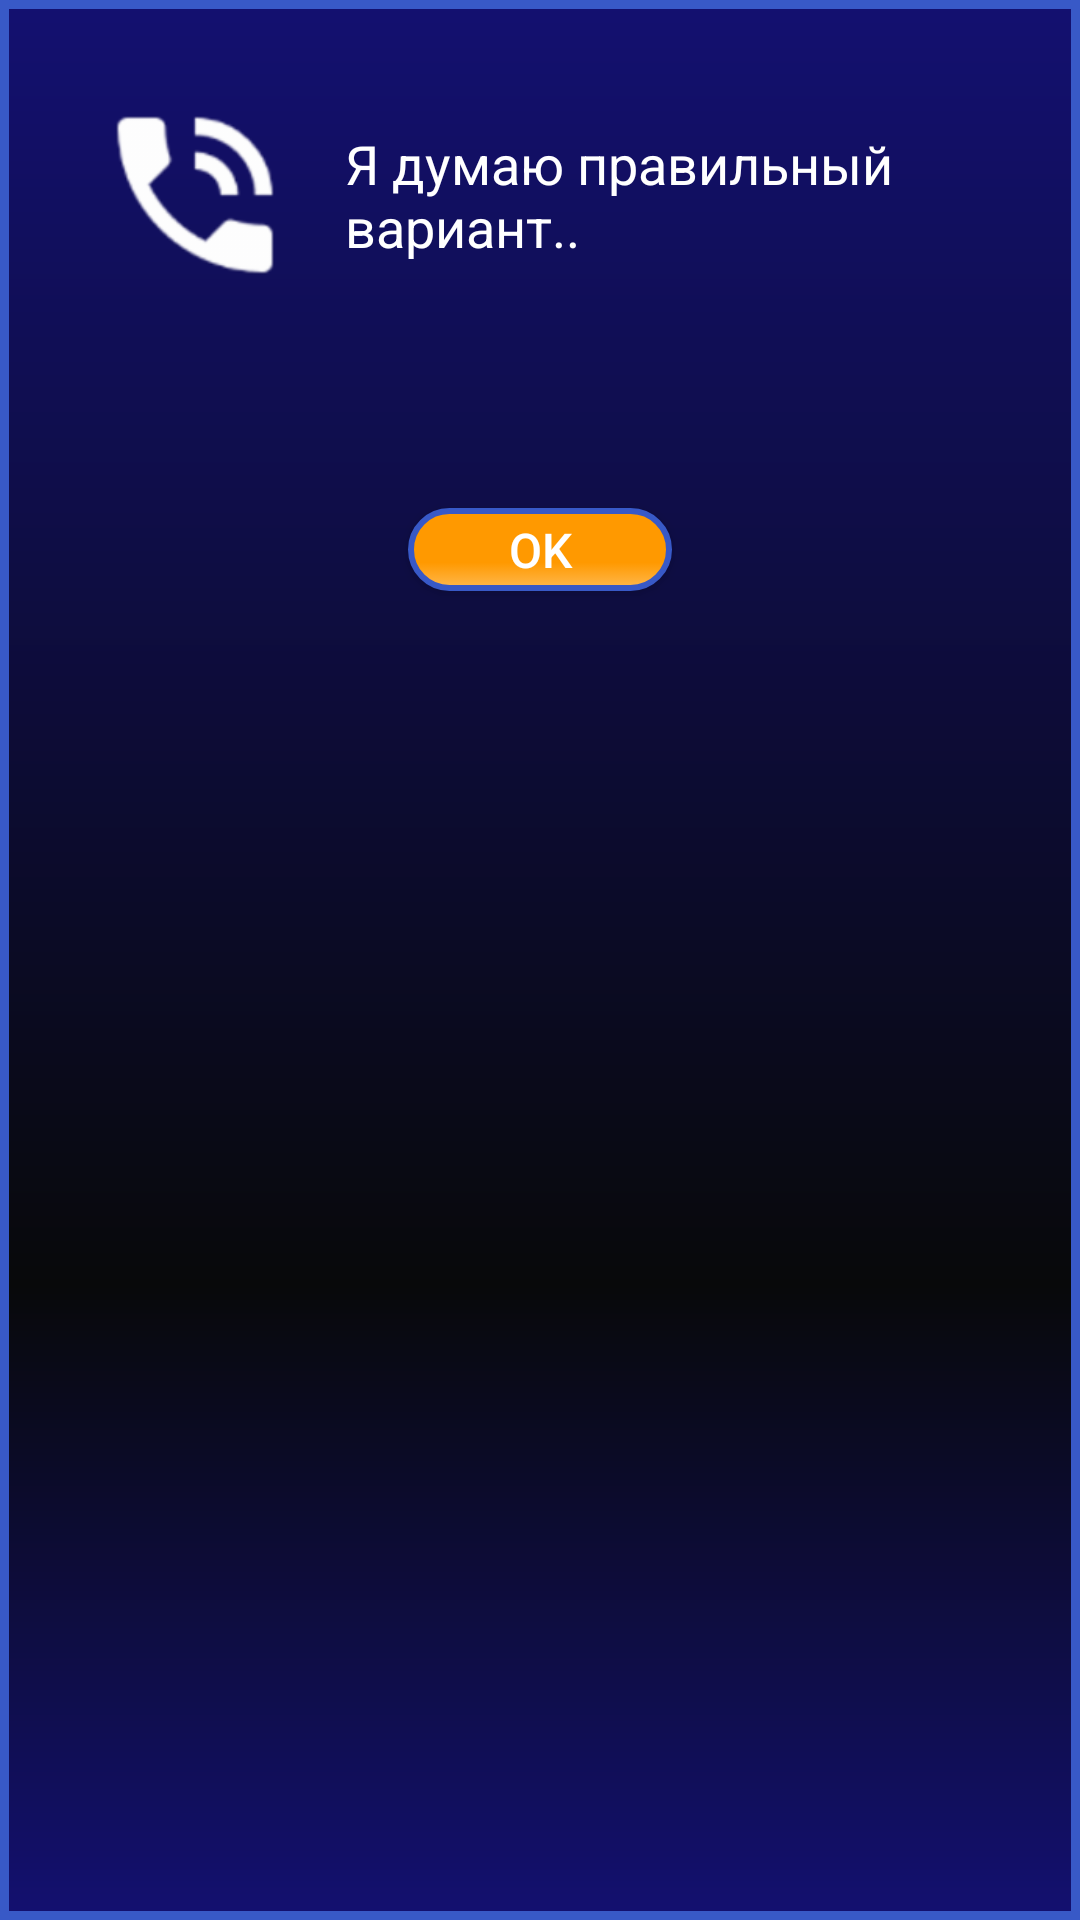

Screen size 1080×1920. Icon name, then its box in pixels as detection(x1, y1, x2, y2):
notification phone in talk: detection(45, 116, 345, 345)
